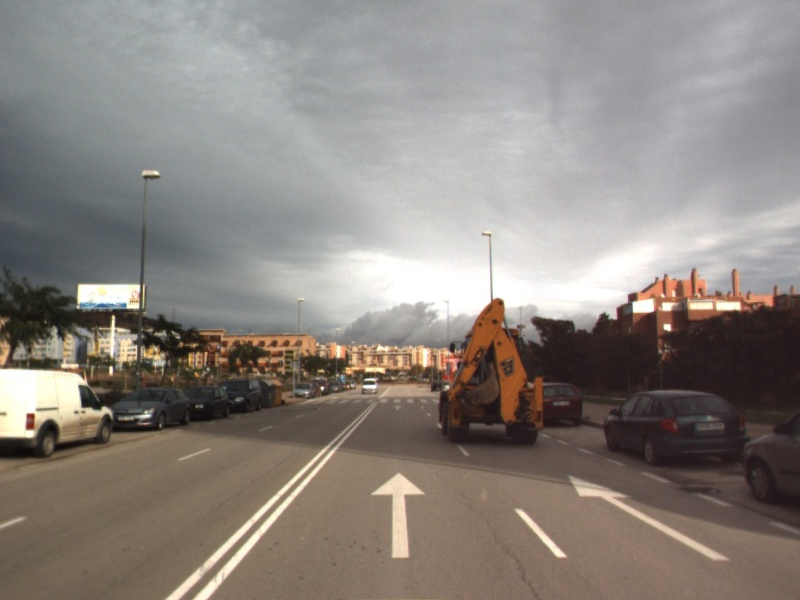STRAIGHT: (566, 473, 733, 563), (368, 470, 428, 560), (390, 403, 405, 412)
